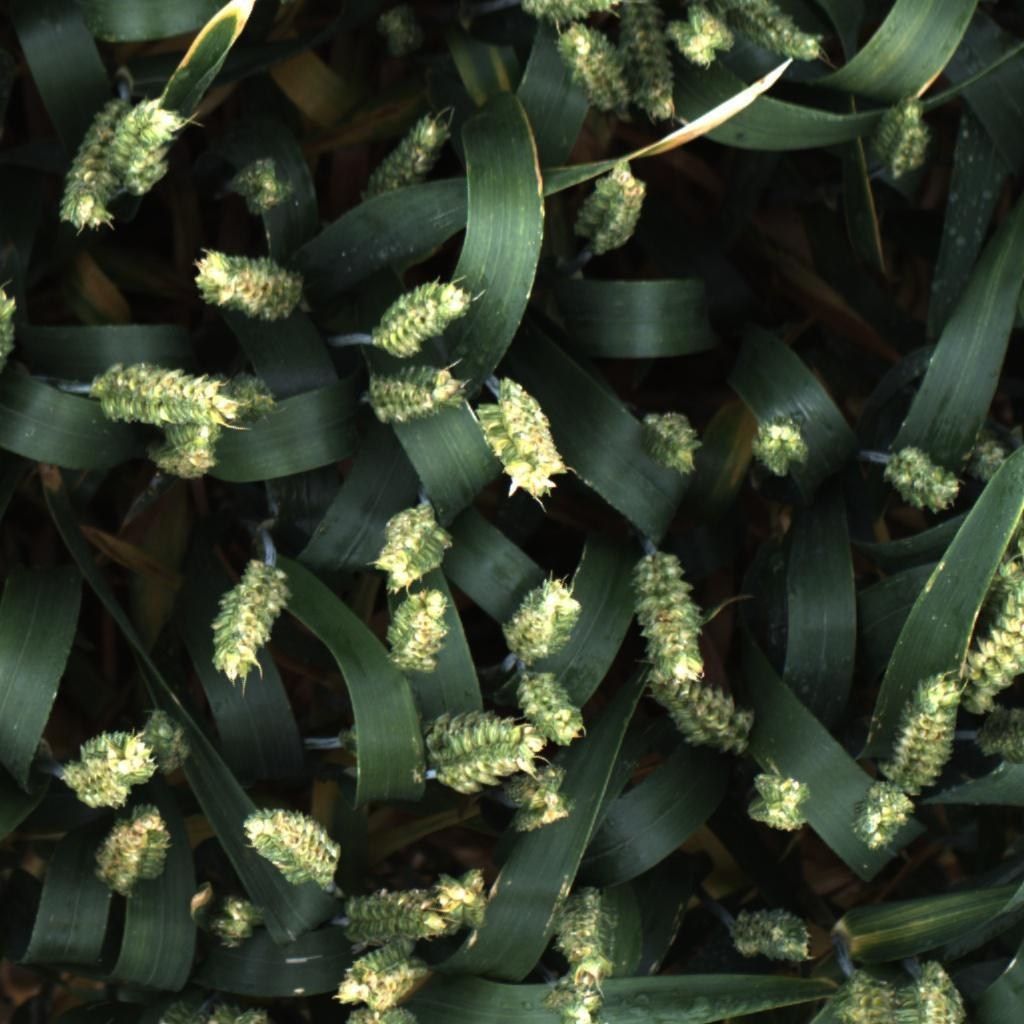0-0: (624, 544, 707, 688), (207, 549, 291, 686), (477, 375, 567, 498), (351, 273, 479, 359), (643, 667, 756, 755), (87, 358, 228, 428), (952, 572, 1024, 708), (883, 671, 967, 787), (61, 95, 128, 239), (189, 243, 306, 325), (57, 724, 158, 818), (244, 794, 343, 888), (409, 743, 543, 812), (620, 0, 687, 129), (92, 797, 177, 895), (499, 571, 591, 660), (366, 104, 455, 196), (571, 158, 651, 260), (108, 95, 183, 197), (873, 443, 971, 520), (410, 702, 533, 763), (344, 877, 465, 939), (364, 501, 450, 586), (362, 359, 465, 427), (331, 940, 429, 1010), (381, 587, 456, 677), (548, 887, 624, 975), (552, 27, 624, 119), (868, 88, 936, 182), (194, 367, 289, 432), (727, 901, 818, 967), (735, 769, 822, 838), (733, 0, 824, 65), (745, 405, 819, 482), (637, 403, 711, 480), (515, 668, 585, 747), (845, 782, 919, 856), (436, 860, 505, 939), (509, 758, 574, 833), (203, 887, 269, 959), (832, 963, 906, 1024), (139, 697, 195, 777), (667, 0, 732, 68), (152, 426, 228, 484), (225, 149, 290, 215), (905, 961, 973, 1024), (963, 425, 1015, 502), (548, 968, 613, 1024), (370, 0, 428, 61), (508, 0, 626, 28), (981, 528, 1022, 599), (976, 705, 1024, 765), (322, 1000, 424, 1024), (180, 1004, 268, 1024), (0, 282, 17, 374)
